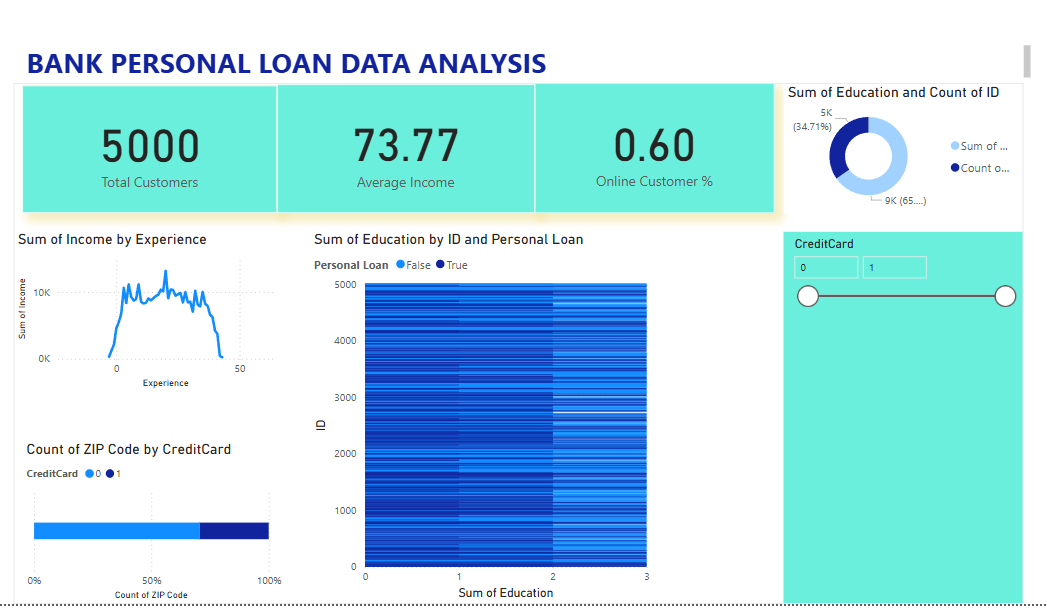

This screenshot's page, from the dashboard's own definition file:
{"tool":"powerbi","page":{"name":"Page 1","canvas":[1280,720],"ordinal":0},"visuals":[{"type":"card","fields":{"Values":["Bank_Personal_Loan_Modelling(1).Total Customers"]},"box":[59.8,114.1,297.8,148.9],"z":0,"group":"g1"},{"type":"card","fields":{"Values":["Bank_Personal_Loan_Modelling(1).Average Income"]},"box":[357.6,112.7,300.7,150.4],"z":1000,"group":"g1"},{"type":"card","fields":{"Values":["Bank_Personal_Loan_Modelling(1).Online Customer %"]},"box":[658.4,111.2,280.3,151.8],"z":2000,"group":"g1"},{"type":"donutChart","fields":{"Y":["Sum(Bank_Personal_Loan_Modelling(1).Education)","CountNonNull(Bank_Personal_Loan_Modelling(1).ID)"]},"box":[948.6,110.9,280,152],"z":3000,"group":"g1"},{"type":"lineChart","fields":{"Category":["Bank_Personal_Loan_Modelling(1).Experience"],"Y":["Sum(Bank_Personal_Loan_Modelling(1).Income)"]},"box":[49.6,283.5,308,189.8],"z":4000,"group":"g1"},{"type":"clusteredBarChart","fields":{"Series":["Bank_Personal_Loan_Modelling(1).Personal Loan"],"Y":["Sum(Bank_Personal_Loan_Modelling(1).Education)"],"Category":["Bank_Personal_Loan_Modelling(1).ID"]},"box":[395.6,283.5,402.9,436.5],"z":5000,"group":"g1"},{"type":"hundredPercentStackedBarChart","fields":{"Y":["CountNonNull(Bank_Personal_Loan_Modelling(1).ZIP Code)"],"Series":["Bank_Personal_Loan_Modelling(1).CreditCard"]},"box":[59.8,528.7,308,191.2],"z":6000,"group":"g1"},{"type":"slicer","fields":{"Values":["Bank_Personal_Loan_Modelling(1).CreditCard"]},"box":[948.6,283.9,280,436],"z":6001,"group":"g1"},{"type":"group","id":"g1","title":"Group 1","box":[49.6,110.9,1179.6,608.8],"z":6002},{"type":"textbox","box":[59.9,61.3,1182.5,49.6],"z":6003}]}

Visuals, with their boxes on the page's 1280x720 design canvas (x1, y1, x2, y2). These are canvas units, not pixel positions in the 1047x612 screenshot, which may show the page scaled, cropped or inside an application window:
card - Bank_Personal_Loan_Modelling(1).Total Customers: (60, 114, 358, 263)
card - Bank_Personal_Loan_Modelling(1).Average Income: (358, 113, 658, 263)
card - Bank_Personal_Loan_Modelling(1).Online Customer %: (658, 111, 939, 263)
donutChart - Sum(Bank_Personal_Loan_Modelling(1).Education) x CountNonNull(Bank_Personal_Loan_Modelling(1).ID): (949, 111, 1229, 263)
lineChart - Bank_Personal_Loan_Modelling(1).Experience x Sum(Bank_Personal_Loan_Modelling(1).Income): (50, 284, 358, 473)
clusteredBarChart - Bank_Personal_Loan_Modelling(1).Personal Loan x Sum(Bank_Personal_Loan_Modelling(1).Education): (396, 284, 798, 720)
hundredPercentStackedBarChart - CountNonNull(Bank_Personal_Loan_Modelling(1).ZIP Code) x Bank_Personal_Loan_Modelling(1).CreditCard: (60, 529, 368, 720)
slicer - Bank_Personal_Loan_Modelling(1).CreditCard: (949, 284, 1229, 720)
"Group 1" group: (50, 111, 1229, 720)
textbox: (60, 61, 1242, 111)
